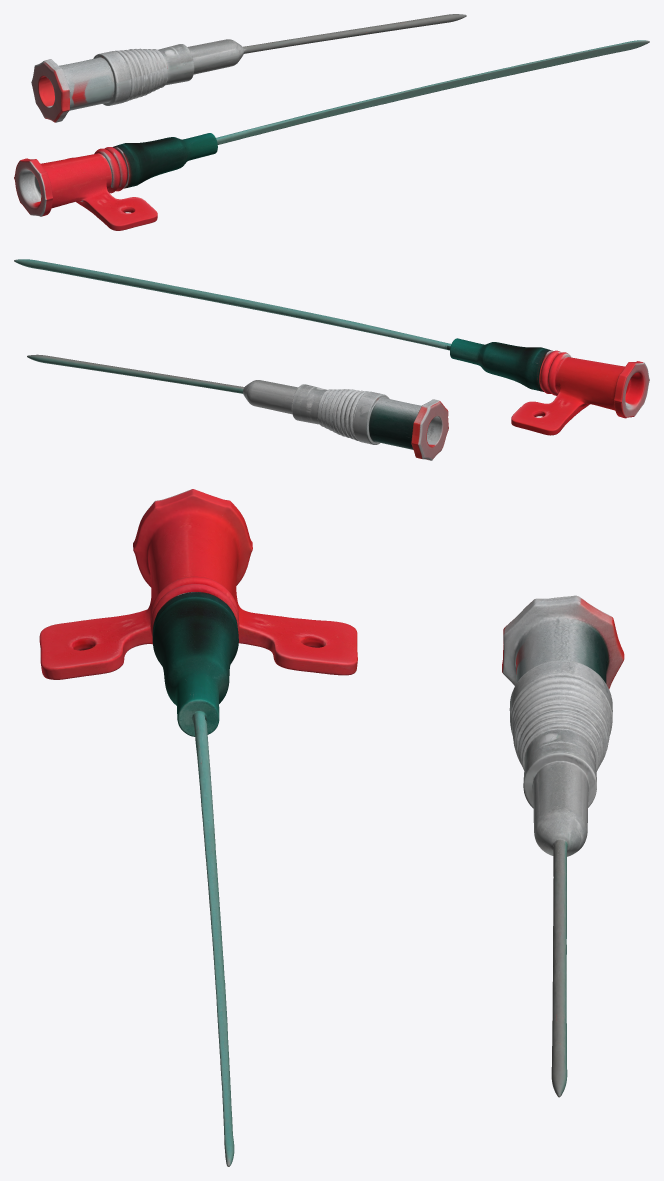
Rendered from NEEDLES.glb.
3 views of the same model, one above another, from view 1: azimuth 30°, elevation 25°; view 2: azimuth 150°, elevation 25°; view 3: azimuth 270°, elevation 25° (orthographic). The views are drawn at different scales.
Bounding box in the file's own units: 1.9 × 0.1638 × 0.7854.
1 material, 1 textured.
